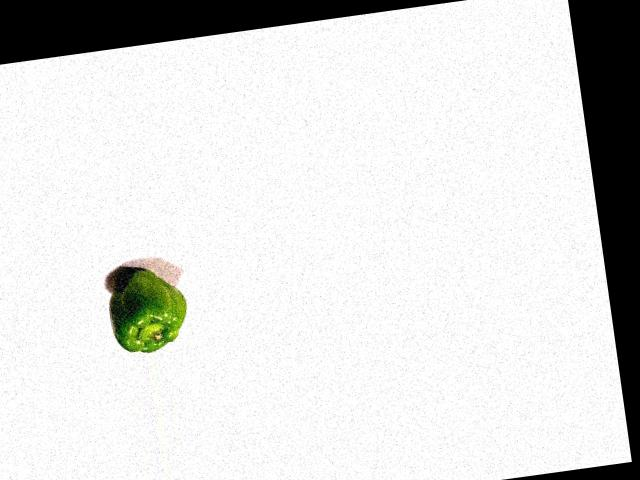bell_pepper: (102, 259, 195, 356)
